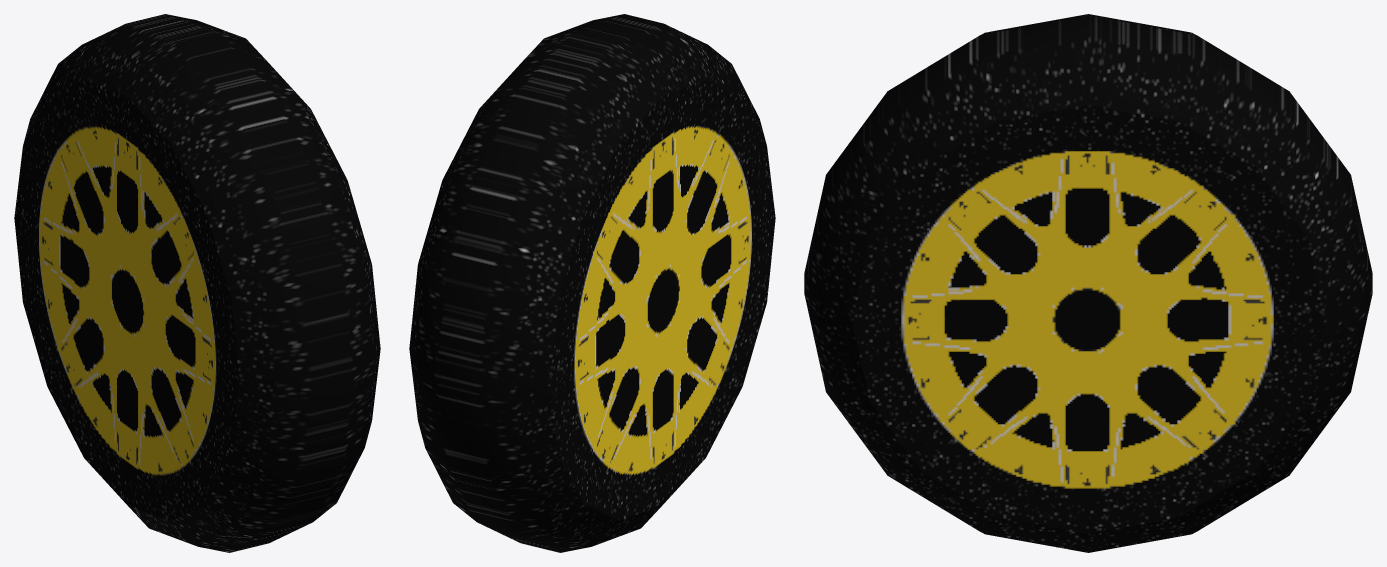
Rendered from bikeRearWheel.obj.
The picture shows the model from 3 angles, left to right: view 1: azimuth 30°, elevation 25°; view 2: azimuth 150°, elevation 25°; view 3: azimuth 270°, elevation 25°; orthographic projection. The views are drawn at different scales.
Visible parts, largest first — view 1: RearWheel_Cylinder; view 2: RearWheel_Cylinder; view 3: RearWheel_Cylinder.
Part boxes in pixels (<box>): RearWheel_Cylinder: <box>14,14,380,552</box>; RearWheel_Cylinder: <box>409,14,775,552</box>; RearWheel_Cylinder: <box>804,14,1372,552</box>.
Bounding box in the file's own units: 0.6 × 2 × 2.
Materials: 1 (1 with a texture image).
